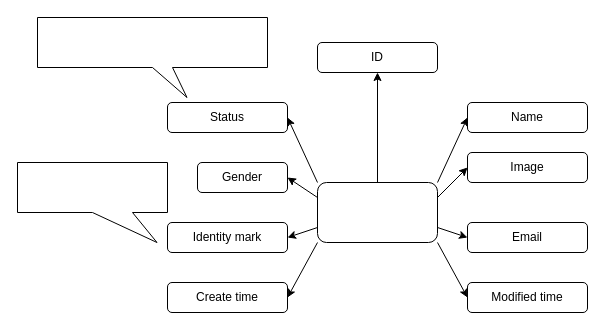
Image size: 605x330. Some labels were removed from this diagram. The shapes that lost their labels are listed below. From the top down, each one's centre as x and y in pixels, then its label:
At point 152,57: "Status show the user can login or not".
At point 92,202: "Either shop owner, customer or administrator".
At point 377,212: "Person Info".
